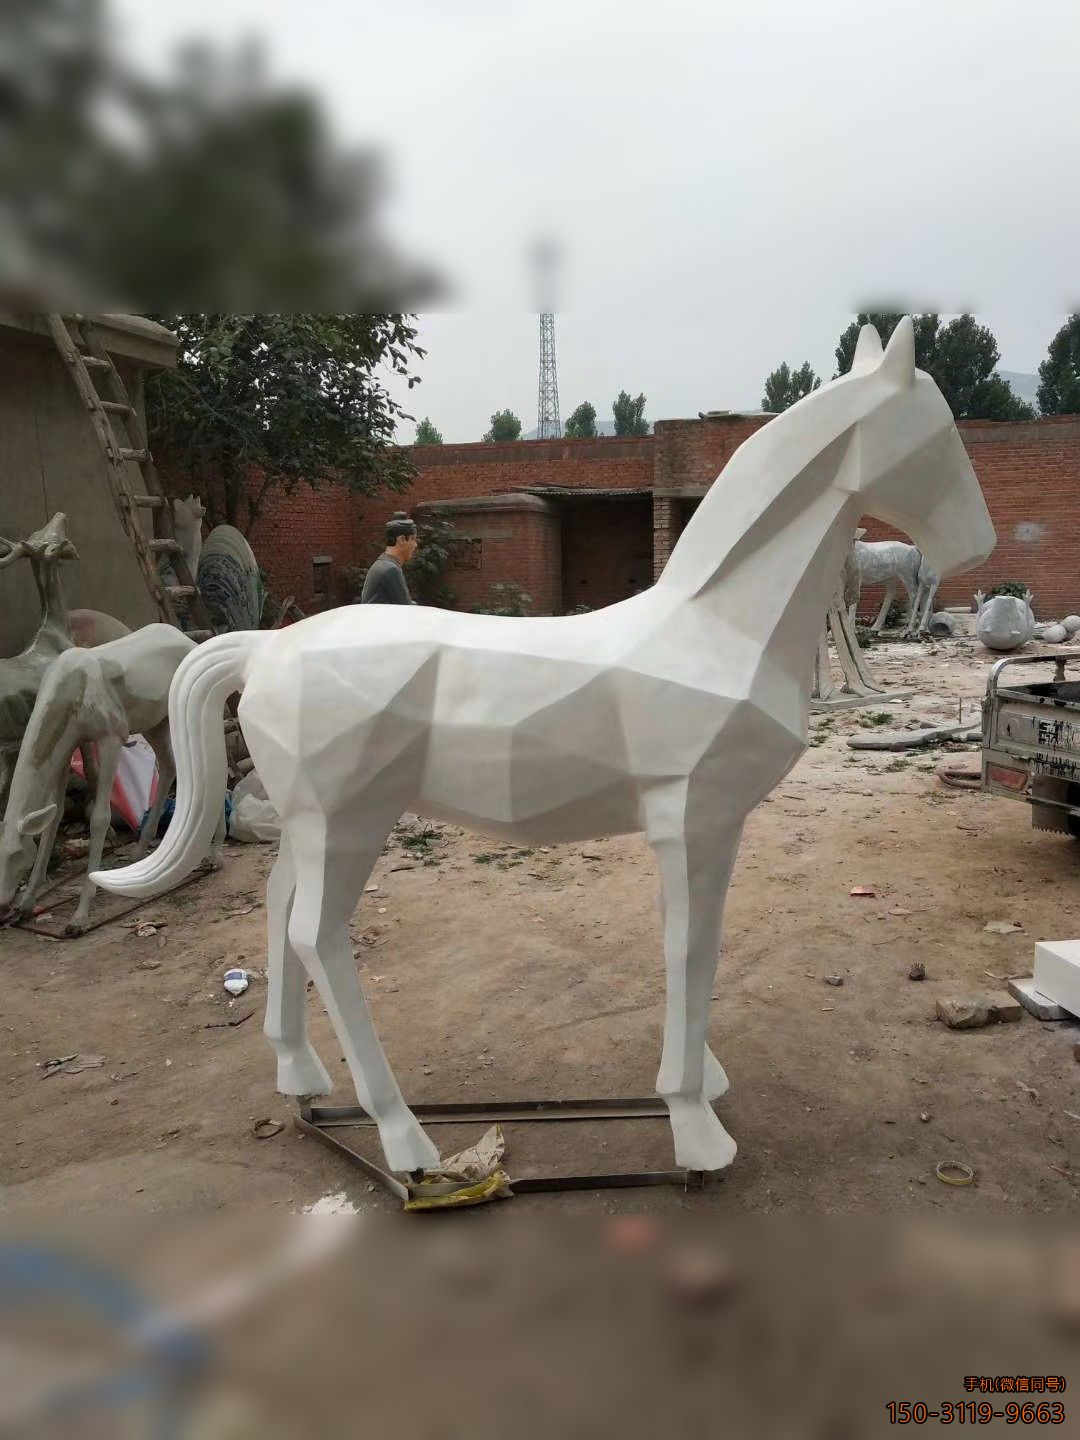background: (47, 319, 990, 1209)
